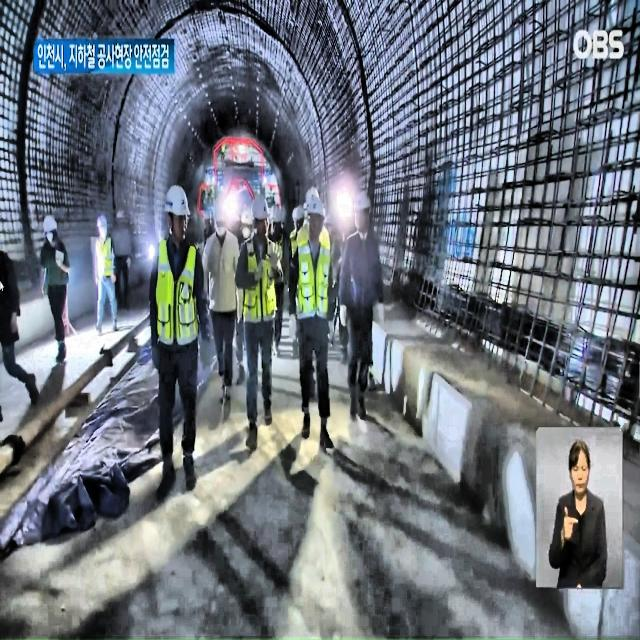safety_helmet: (216, 200, 240, 231), (167, 188, 187, 222), (95, 214, 113, 242), (308, 200, 329, 222), (40, 212, 59, 232), (255, 200, 271, 220), (352, 194, 370, 210), (291, 211, 302, 218)
safety_jacket: (145, 245, 200, 340), (296, 248, 340, 321), (245, 248, 276, 328), (95, 242, 113, 274)
